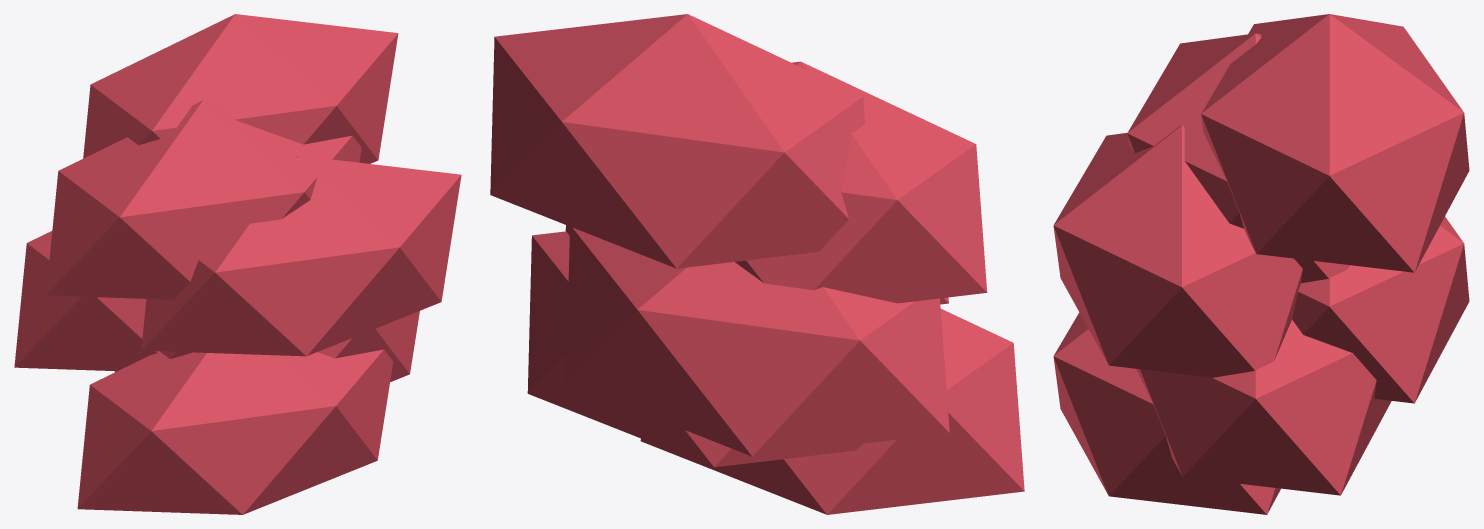
Rendered from item_017_berries_l.glb.
3 views of the same model, side by side, from view 1: azimuth 30°, elevation 25°; view 2: azimuth 150°, elevation 25°; view 3: azimuth 270°, elevation 25° (orthographic). The views are drawn at different scales.
Parts seen in each view (by area): view 1: item_017_berries_l; view 2: item_017_berries_l; view 3: item_017_berries_l.
Part boxes in pixels (box(x1,y1,x2,y2)): item_017_berries_l: box(14, 14, 461, 514); item_017_berries_l: box(490, 14, 1024, 514); item_017_berries_l: box(1053, 14, 1469, 514).
Bounding box in the file's own units: 0.4215 × 0.454 × 0.3384.
